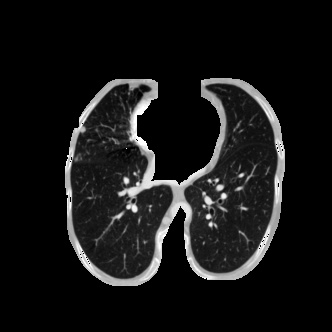PN: (81, 127, 85, 131)
